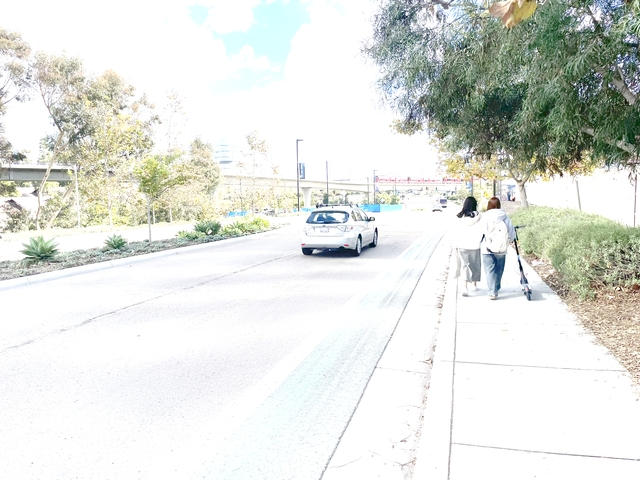Car: (298, 200, 379, 259), (431, 201, 444, 213), (439, 195, 447, 207)
